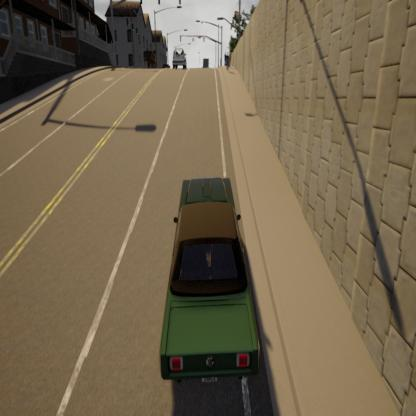Cars: (161, 136, 267, 416), (162, 32, 189, 86)
